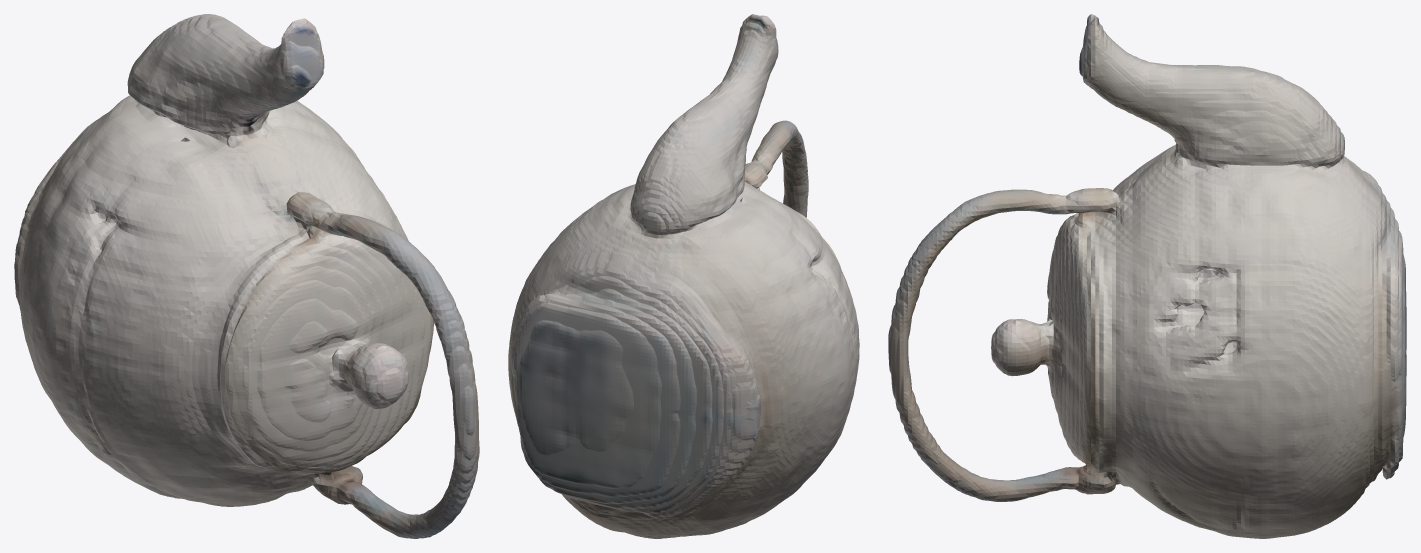
The model's file is chronos_teapot.glb.
The picture shows the model from 3 angles, left to right: view 1: azimuth 30°, elevation 25°; view 2: azimuth 150°, elevation 25°; view 3: azimuth 270°, elevation 25°; orthographic projection. The views are drawn at different scales.
Parts seen in each view (by area): view 1: TripoSR_Object; view 2: TripoSR_Object; view 3: TripoSR_Object.
Part boxes in pixels (bbox=[...]): TripoSR_Object: bbox=[14, 14, 479, 538]; TripoSR_Object: bbox=[508, 14, 859, 538]; TripoSR_Object: bbox=[888, 14, 1406, 538].
Bounding box in the file's own units: 0.8583 × 1.25 × 1.17.
